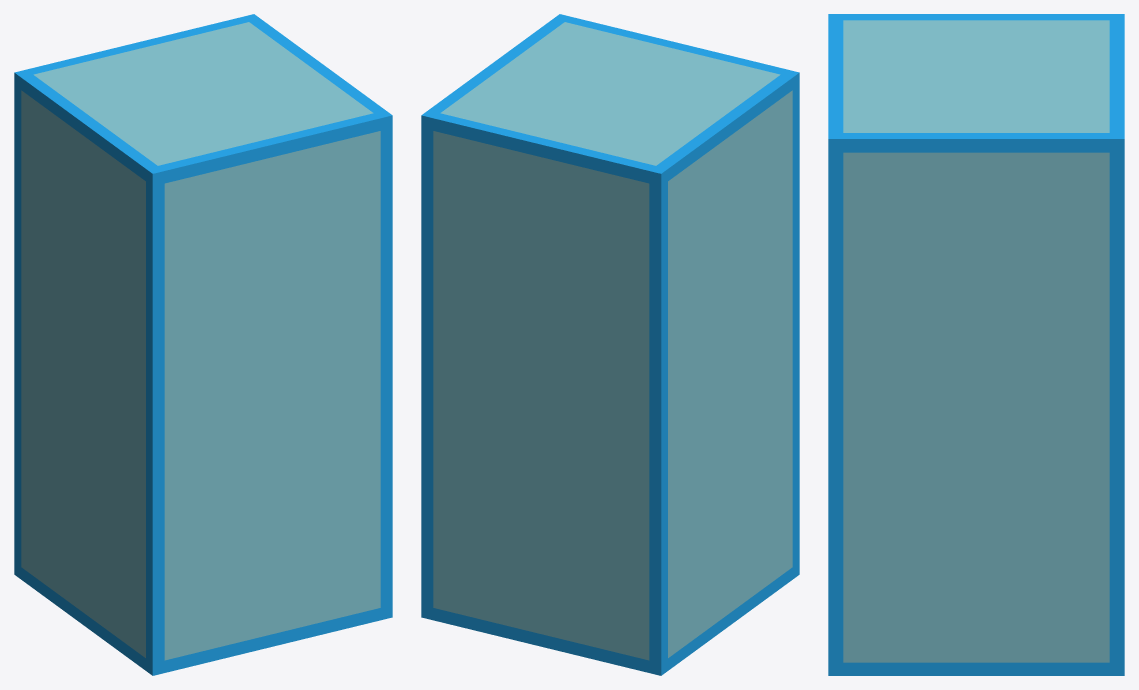
Rendered from Box_Tall.obj.
3 views of the same model, side by side, from view 1: azimuth 30°, elevation 25°; view 2: azimuth 150°, elevation 25°; view 3: azimuth 270°, elevation 25° (orthographic). The views are drawn at different scales.
Bounding box in the file's own units: 20 × 40 × 20.
1 material, 1 textured.
